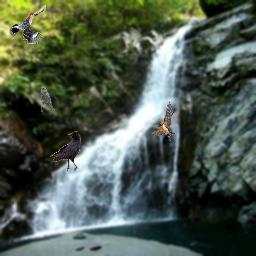Crow: (50, 131, 81, 171)
Sparrow: (41, 86, 55, 112)
Swallow: (148, 101, 177, 141)
Woodpecker: (10, 4, 46, 44)
